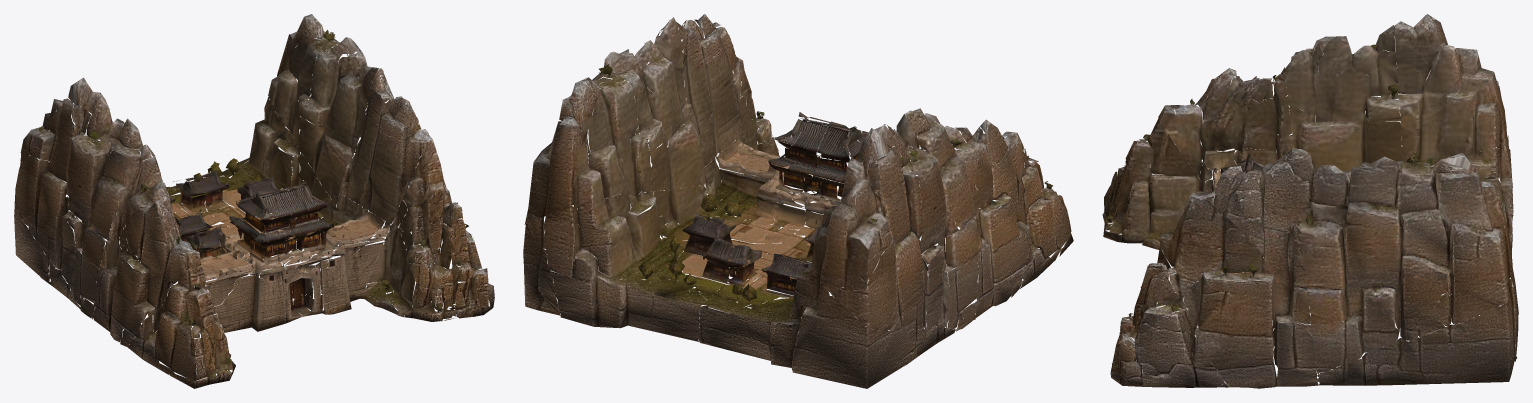
The model's file is pass.glb.
3 renders of one model, left to right at view 1: azimuth 30°, elevation 25°; view 2: azimuth 150°, elevation 25°; view 3: azimuth 270°, elevation 25°, orthographic. The views are drawn at different scales.
Visible parts, largest first — view 1: x-pass; view 2: x-pass; view 3: x-pass.
Part boxes in pixels (x1=…): x-pass: x1=14, y1=14, x2=494, y2=388; x-pass: x1=523, y1=14, x2=1073, y2=388; x-pass: x1=1102, y1=14, x2=1518, y2=388.
Bounding box in the file's own units: 0.8473 × 0.4958 × 0.8372.
Materials: 1 (1 with a texture image).
